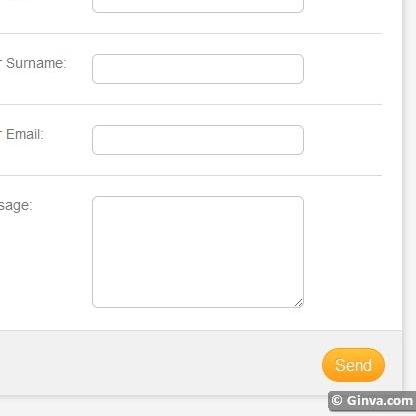button: (321, 347, 387, 383)
field: (91, 197, 307, 310), (90, 52, 304, 85), (91, 123, 304, 156)
